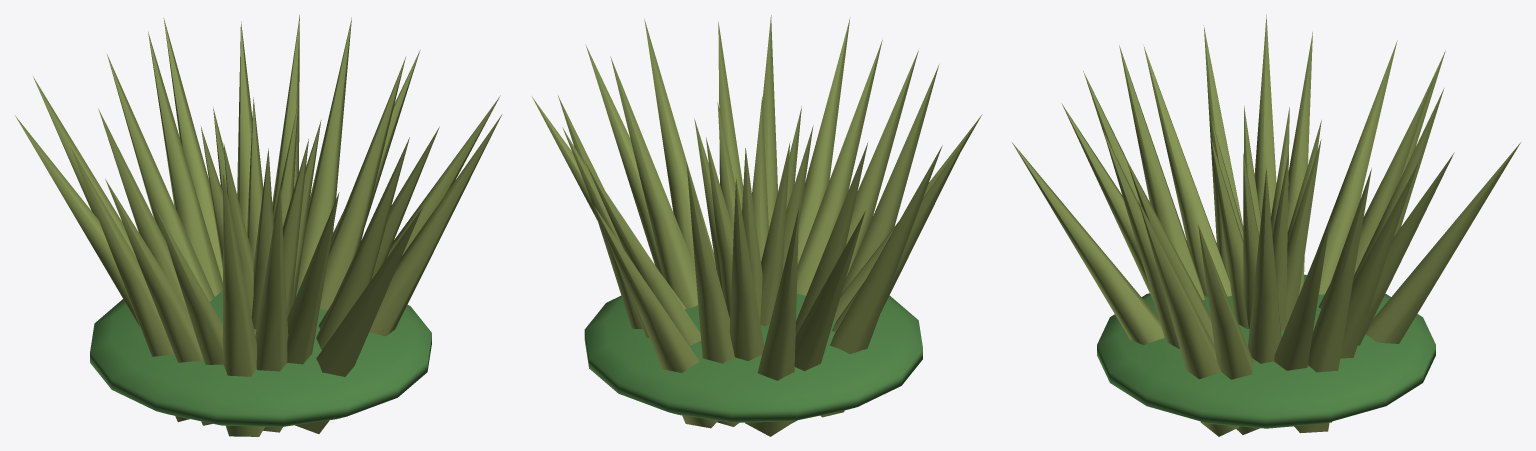
The model's file is grass.gltf.
3 renders of one model, left to right at view 1: azimuth 30°, elevation 25°; view 2: azimuth 150°, elevation 25°; view 3: azimuth 270°, elevation 25°, orthographic.
Visible parts, largest first — view 1: Mound, Blade9, Blade3, Blade1, Blade17, Blade6, Blade21, Blade12, Blade8, Blade11, Blade5, Blade16 (+18 smaller); view 2: Mound, Blade1, Blade12, Blade7, Blade17, Blade18, Blade15, Blade16, Blade3, Blade9, Blade6, Blade14 (+19 smaller); view 3: Mound, Blade6, Blade18, Blade21, Blade3, Blade10, Blade14, Blade1, Blade9, Blade2, Blade20, Blade22 (+19 smaller).
Boxes of the visible parts, x1,y1,x2,y2 form: Mound: [90, 288, 431, 427]; Blade9: [222, 174, 264, 436]; Blade3: [369, 115, 501, 336]; Blade1: [319, 57, 405, 309]; Blade17: [148, 31, 222, 296]; Blade6: [295, 207, 422, 433]; Blade21: [297, 17, 351, 287]; Blade12: [70, 146, 189, 421]; Blade8: [255, 186, 288, 432]; Blade11: [105, 179, 212, 425]; Blade5: [316, 137, 409, 349]; Blade16: [107, 54, 214, 301]; Mound: [584, 293, 922, 422]; Blade1: [610, 56, 698, 307]; Blade12: [820, 145, 942, 417]; Blade7: [796, 40, 882, 295]; Blade17: [686, 163, 739, 426]; Blade18: [594, 206, 717, 428]; Blade15: [745, 207, 799, 436]; Blade16: [729, 178, 764, 360]; Blade3: [644, 19, 715, 267]; Blade9: [841, 64, 939, 294]; Blade6: [797, 17, 850, 264]; Blade14: [793, 211, 865, 422]; Mound: [1097, 274, 1435, 428]; Blade6: [1012, 142, 1164, 344]; Blade18: [1366, 142, 1520, 343]; Blade21: [1294, 168, 1371, 433]; Blade3: [1138, 200, 1239, 436]; Blade10: [1144, 47, 1231, 296]; Blade14: [1317, 40, 1397, 294]; Blade1: [1248, 167, 1281, 363]; Blade9: [1119, 45, 1204, 299]; Blade2: [1198, 224, 1259, 434]; Blade20: [1329, 163, 1418, 422]; Blade22: [1274, 218, 1330, 370].
Size of the model in its own units: 0.8888 by 0.6636 by 1.01.
